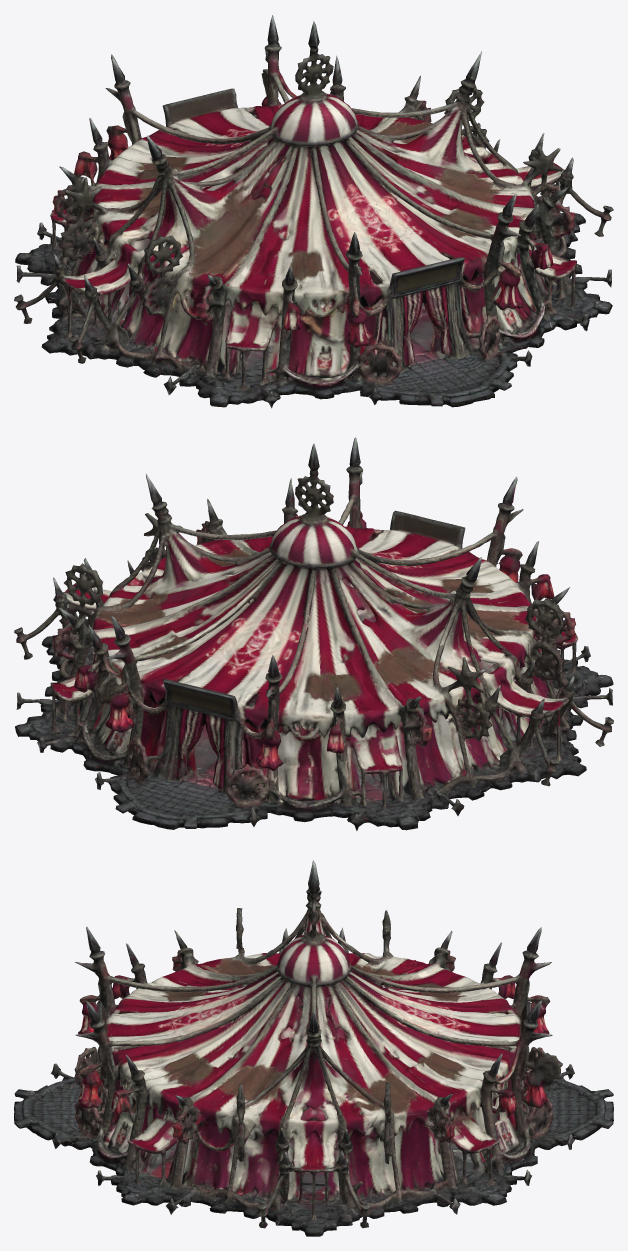
Rendered from Meshy_AI_Clockwork_Circus_0425091754_texture.fbx.
The picture shows the model from 3 angles, top to bottom: view 1: azimuth 30°, elevation 25°; view 2: azimuth 150°, elevation 25°; view 3: azimuth 270°, elevation 25°; orthographic projection. The views are drawn at different scales.
Parts seen in each view (by area): view 1: Mesh_0; view 2: Mesh_0; view 3: Mesh_0.
Part boxes in pixels (x1,y1,x2,y2): Mesh_0: [14, 15, 613, 408]; Mesh_0: [14, 437, 613, 830]; Mesh_0: [14, 860, 613, 1236].
Size of the model in its own units: 187 by 87.14 by 191.
1 material, 1 textured.
